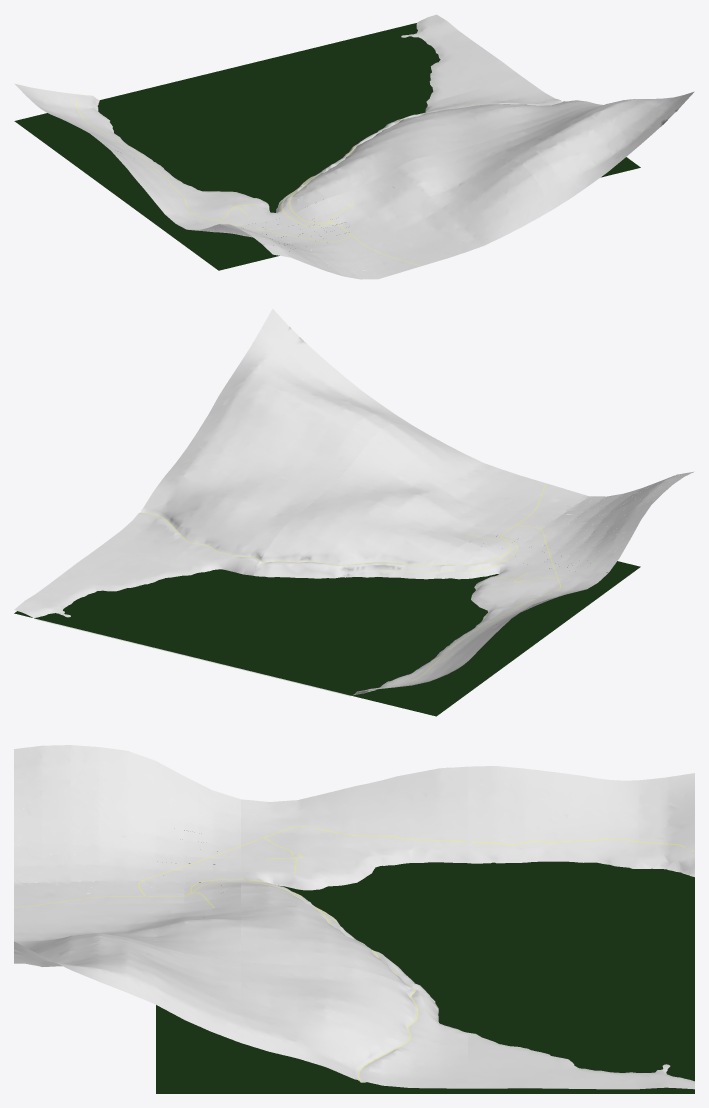
File: Msh_Sect06_Terrain.glb
3 renders of one model, top to bottom at view 1: azimuth 30°, elevation 25°; view 2: azimuth 150°, elevation 25°; view 3: azimuth 270°, elevation 25°, orthographic. The views are drawn at different scales.
Visible parts, largest first — view 1: Msh_Water, Msh_Sec6_Bloque_4, Msh_Sec6_Bloque_7, Msh_Sec6_Bloque_1, Msh_Sec6_Bloque_8, Msh_Sec6_Bloque_2, Msh_Sec6_Bloque_5, Msh_Sec6_Bloque_9, Msh_Sec6_Bloque_3; view 2: Msh_Water, Msh_Sec6_Bloque_7, Msh_Sec6_Bloque_8, Msh_Sec6_Bloque_4, Msh_Sec6_Bloque_5, Msh_Sec6_Bloque_1, Msh_Sec6_Bloque_2, Msh_Sec6_Bloque_9, Msh_Sec6_Bloque_3; view 3: Msh_Water, Msh_Sec6_Bloque_1, Msh_Sec6_Bloque_8, Msh_Sec6_Bloque_2, Msh_Sec6_Bloque_3, Msh_Sec6_Bloque_7, Msh_Sec6_Bloque_4, Msh_Sec6_Bloque_5, Msh_Sec6_Bloque_9.
Part boxes in pixels (x1,y1,x2,y2): Msh_Water: (14,23,640,270); Msh_Sec6_Bloque_4: (327,147,553,268); Msh_Sec6_Bloque_7: (468,91,694,208); Msh_Sec6_Bloque_1: (188,198,412,279); Msh_Sec6_Bloque_8: (398,77,603,146); Msh_Sec6_Bloque_2: (101,142,326,229); Msh_Sec6_Bloque_5: (300,118,467,198); Msh_Sec6_Bloque_9: (401,14,521,103); Msh_Sec6_Bloque_3: (14,83,163,168); Msh_Water: (14,536,640,716); Msh_Sec6_Bloque_7: (186,308,412,489); Msh_Sec6_Bloque_8: (100,448,326,575); Msh_Sec6_Bloque_4: (327,424,553,541); Msh_Sec6_Bloque_5: (253,490,467,579); Msh_Sec6_Bloque_1: (468,471,694,572); Msh_Sec6_Bloque_2: (436,541,607,634); Msh_Sec6_Bloque_9: (14,546,194,648); Msh_Sec6_Bloque_3: (296,612,520,696); Msh_Water: (156,830,694,1093); Msh_Sec6_Bloque_1: (14,745,240,904); Msh_Sec6_Bloque_8: (241,961,467,1088); Msh_Sec6_Bloque_2: (241,766,468,906); Msh_Sec6_Bloque_3: (468,766,694,876); Msh_Sec6_Bloque_7: (14,933,240,1042); Msh_Sec6_Bloque_4: (14,894,240,961); Msh_Sec6_Bloque_5: (241,892,435,1002); Msh_Sec6_Bloque_9: (468,1032,694,1089).
Bounding box in the file's own units: 1511 × 459 × 1600.
